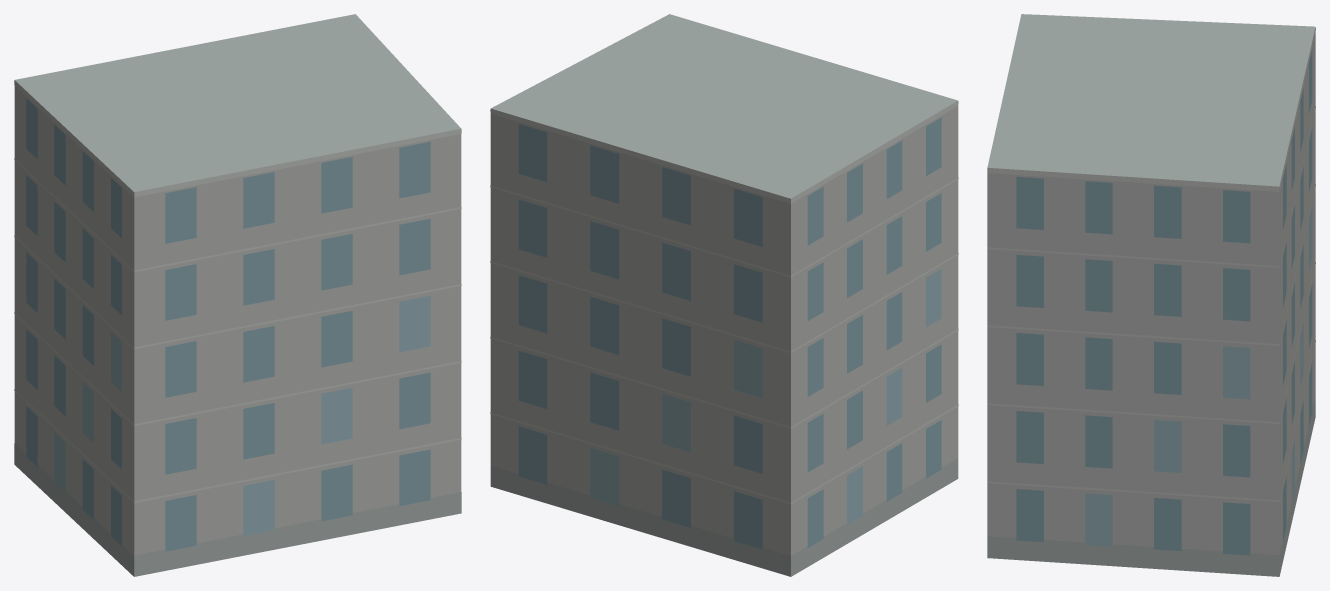
File: survey-upis-32760248.glb
3 renders of one model, left to right at view 1: azimuth 30°, elevation 25°; view 2: azimuth 150°, elevation 25°; view 3: azimuth 270°, elevation 25°, orthographic. The views are drawn at different scales.
Parts seen in each view (by area): view 1: survey-upis-32760248.tmp; view 2: survey-upis-32760248.tmp; view 3: survey-upis-32760248.tmp.
Part boxes in pixels (x1=…): survey-upis-32760248.tmp: x1=14, y1=14, x2=461, y2=576; survey-upis-32760248.tmp: x1=490, y1=14, x2=958, y2=576; survey-upis-32760248.tmp: x1=987, y1=14, x2=1315, y2=576.
Bounding box in the file's own units: 16.81 × 17.7 × 13.52.
